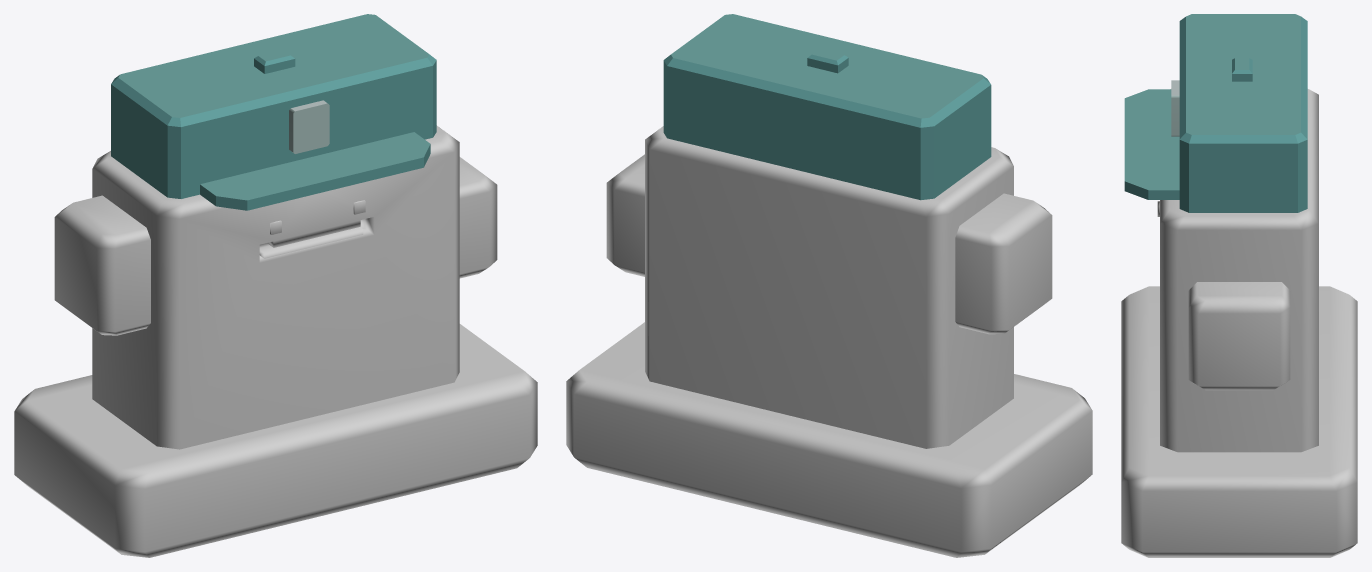
3 renders of one model, left to right at view 1: azimuth 30°, elevation 25°; view 2: azimuth 150°, elevation 25°; view 3: azimuth 270°, elevation 25°, orthographic. The views are drawn at different scales.
Parts seen in each view (by area): view 1: pq0132bc, pq0132bc_obj; view 2: pq0132bc, pq0132bc_obj; view 3: pq0132bc, pq0132bc_obj.
Boxes of the visible parts, x1,y1,x2,y2 form: pq0132bc: (14,125,537,557); pq0132bc_obj: (111,14,436,210); pq0132bc: (566,126,1092,557); pq0132bc_obj: (663,14,991,200); pq0132bc: (1121,89,1357,557); pq0132bc_obj: (1124,14,1307,212).
Bounding box in the file's own units: 1.83 × 1.72 × 0.9217.
